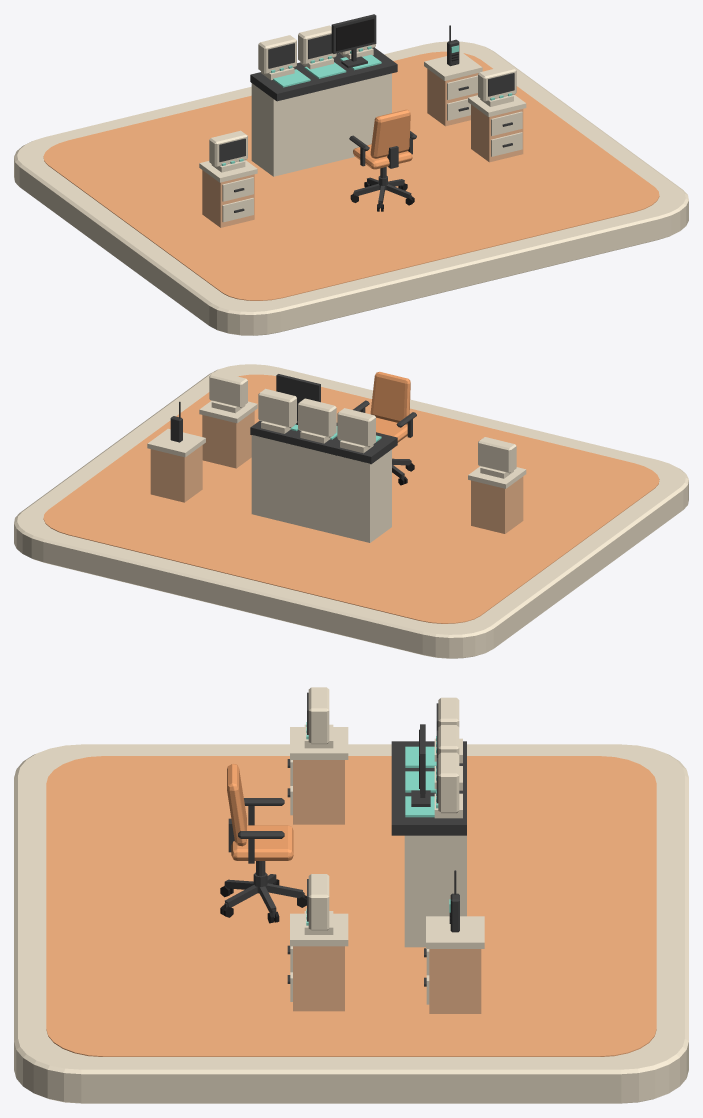
3 renders of one model, top to bottom at view 1: azimuth 30°, elevation 25°; view 2: azimuth 150°, elevation 25°; view 3: azimuth 270°, elevation 25°, orthographic. The views are drawn at different scales.
Visible parts, largest first — view 1: COM-02 Floor Surface, COM-01 Rounded Base Direct, Console, COM-04_Chair_blender_direct, Panel, Frame, Body, Body.001, Body.002, Top.002, Housing, Housing.004 (+11 smaller); view 2: COM-02 Floor Surface, COM-01 Rounded Base Direct, Console, COM-04_Chair_blender_direct, Body, Body.002, Body.001, Panel, Housing, Housing.001, Housing.002, Housing.004 (+5 smaller); view 3: COM-02 Floor Surface, COM-01 Rounded Base Direct, COM-04_Chair_blender_direct, Console, Body.002, Body.001, Body, Panel, Top.002, Top.001, Top, Housing.002 (+3 smaller).
Part boxes in pixels (x1,y1,x2,y2): COM-02 Floor Surface: (43, 51, 659, 300); COM-01 Rounded Base Direct: (14, 41, 688, 335); Console: (251, 73, 391, 176); COM-04_Chair_blender_direct: (349, 109, 416, 211); Panel: (250, 48, 397, 101); Frame: (331, 14, 376, 68); Body: (202, 170, 254, 227); Body.001: (471, 104, 523, 162); Body.002: (427, 69, 478, 126); Top.002: (424, 52, 482, 80); Housing: (258, 35, 296, 74); Housing.004: (478, 65, 516, 101); COM-02 Floor Surface: (43, 374, 659, 623); COM-01 Rounded Base Direct: (14, 364, 688, 658); Console: (251, 435, 391, 542); COM-04_Chair_blender_direct: (353, 371, 416, 485); Body: (471, 476, 523, 533); Body.002: (150, 445, 202, 502); Body.001: (202, 411, 254, 468); Panel: (250, 421, 397, 464); Housing: (337, 408, 375, 447); Housing.001: (298, 398, 336, 437); Housing.002: (258, 388, 296, 427); Housing.004: (209, 371, 247, 407); COM-02 Floor Surface: (46, 756, 656, 1056); COM-01 Rounded Base Direct: (14, 744, 688, 1103); COM-04_Chair_blender_direct: (220, 764, 306, 923); Console: (404, 835, 466, 947); Body.002: (429, 949, 481, 1013); Body.001: (293, 946, 344, 1011); Body: (293, 760, 344, 824); Panel: (391, 741, 466, 835); Top.002: (426, 916, 484, 948); Top.001: (290, 913, 348, 946); Top: (290, 727, 348, 759); Housing.002: (438, 752, 459, 813).
Bounding box in the file's own units: 6 × 1.88 × 5.2.
1 material, 1 textured.
